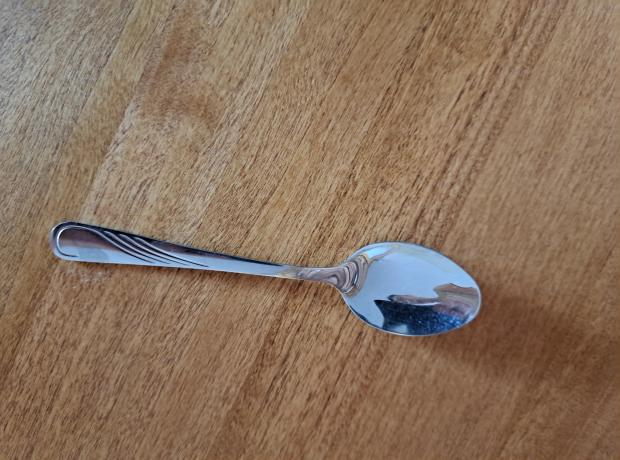metal: (51, 221, 484, 337)
